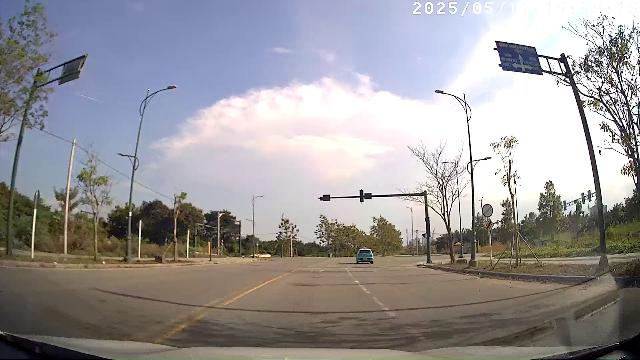135-het-tat-ca-cac-lenh-cam: (481, 204, 494, 217)
